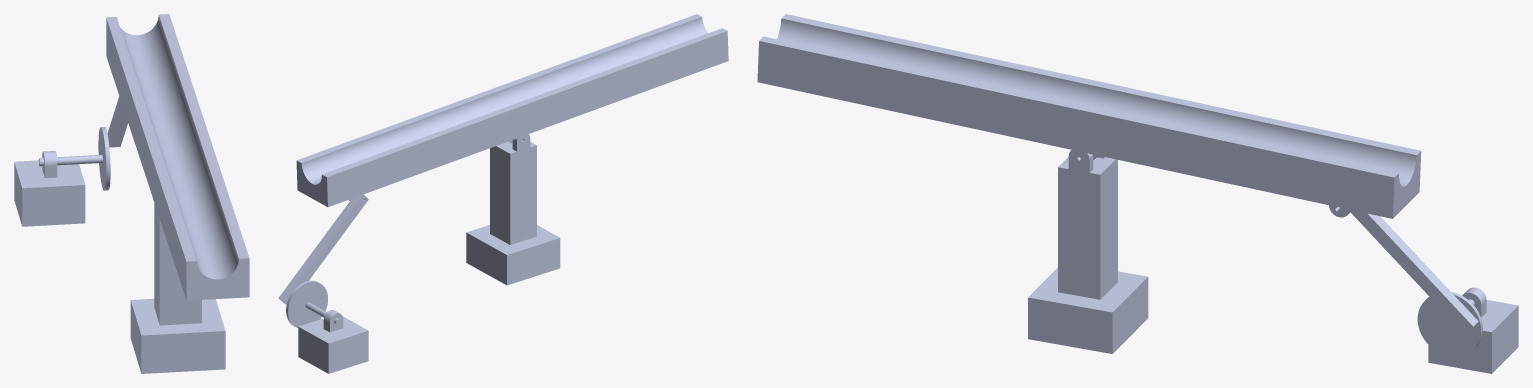
The model's file is assembly.obj.
3 renders of one model, left to right at view 1: azimuth 30°, elevation 25°; view 2: azimuth 150°, elevation 25°; view 3: azimuth 270°, elevation 25°, orthographic. The views are drawn at different scales.
Visible parts, largest first — view 1: mesh 1 rod_bas-1; view 2: mesh 1 rod_bas-1; view 3: mesh 1 rod_bas-1.
Boxes of the visible parts, box(x1,y1,x2,y2) form: mesh 1 rod_bas-1: box(14, 14, 249, 373); mesh 1 rod_bas-1: box(278, 14, 728, 373); mesh 1 rod_bas-1: box(757, 14, 1518, 373).
Bounding box in the file's own units: 0.072 × 0.0589 × 0.1655.
